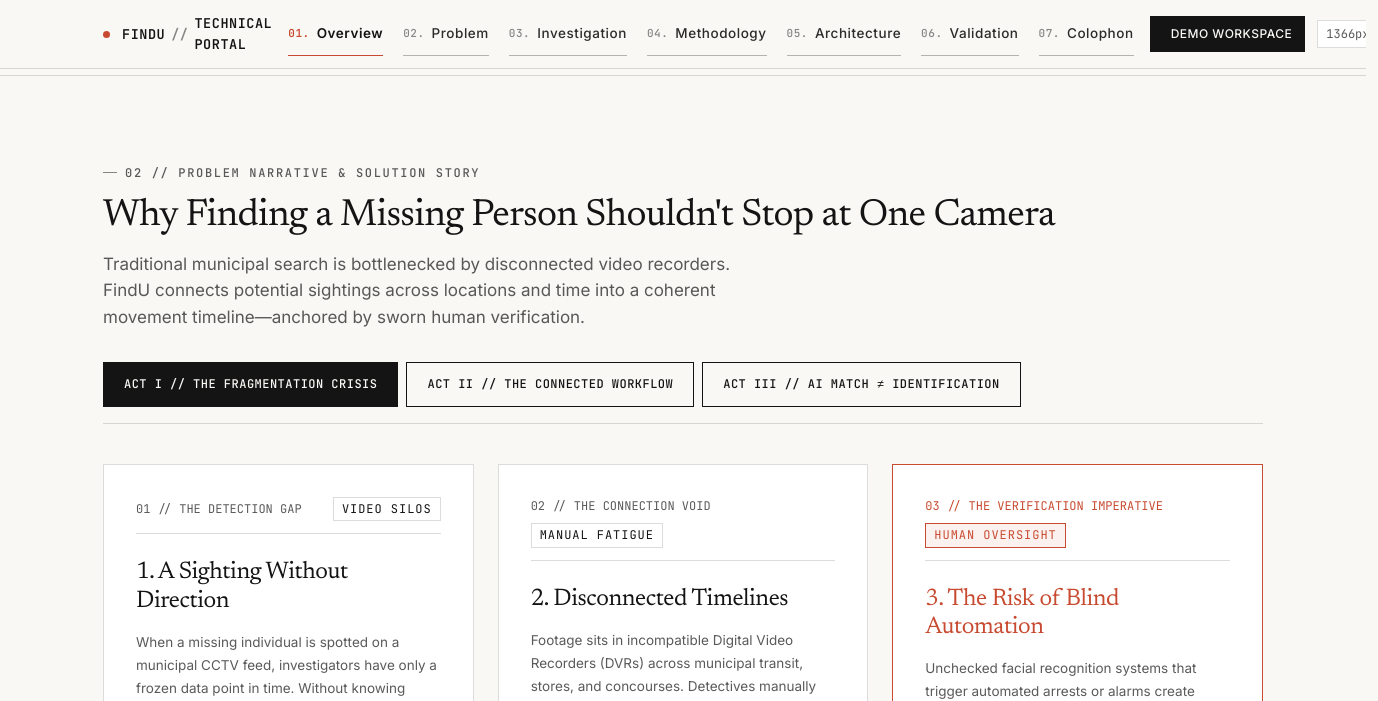
Phase P4: Problem Narrative & Solution Story Verification › verifies transit velocity physical plausibility gate is clearly communicated
(page scrolled)
Click the button "Act II // The Connected Workflow": click(550, 384) x1=406 y1=362 x2=694 y2=407
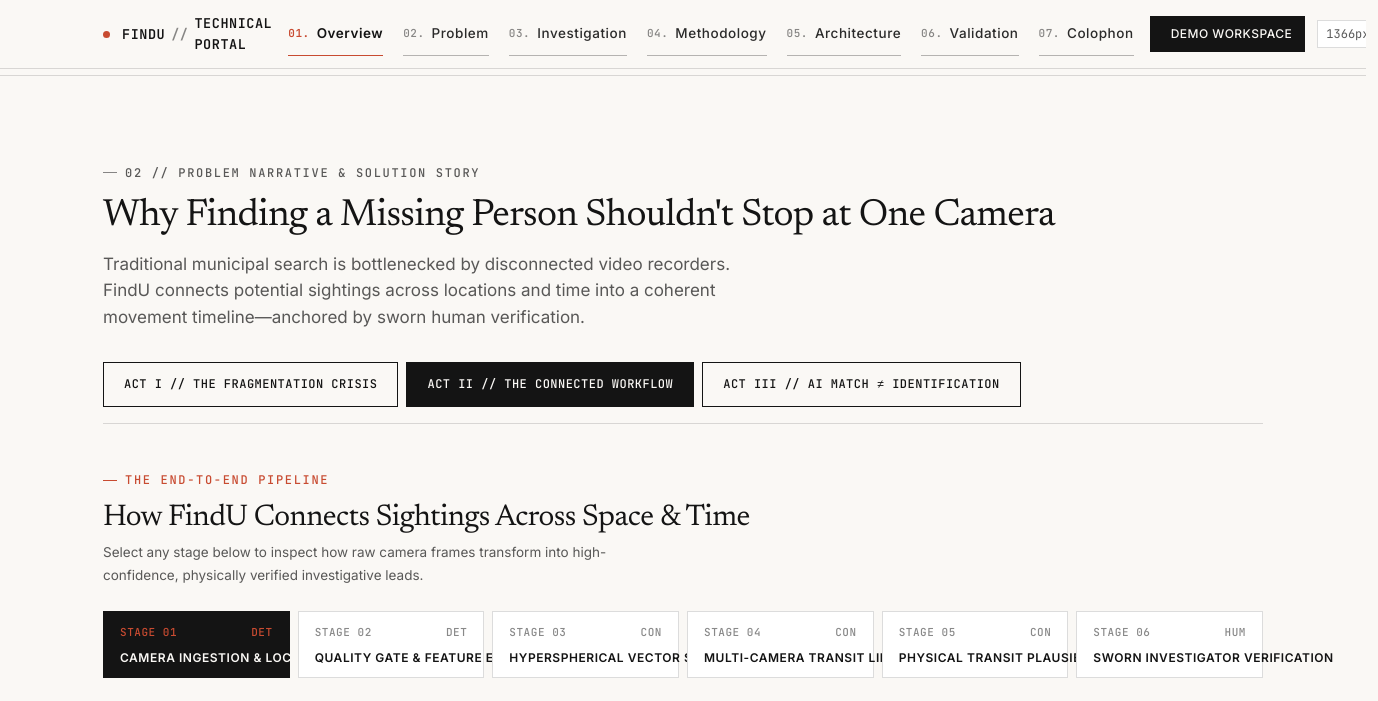
Click the button "STAGE 05 Con Physical Transit Plausibility Gate": click(975, 644) x1=882 y1=611 x2=1068 y2=678
(page scrolled)
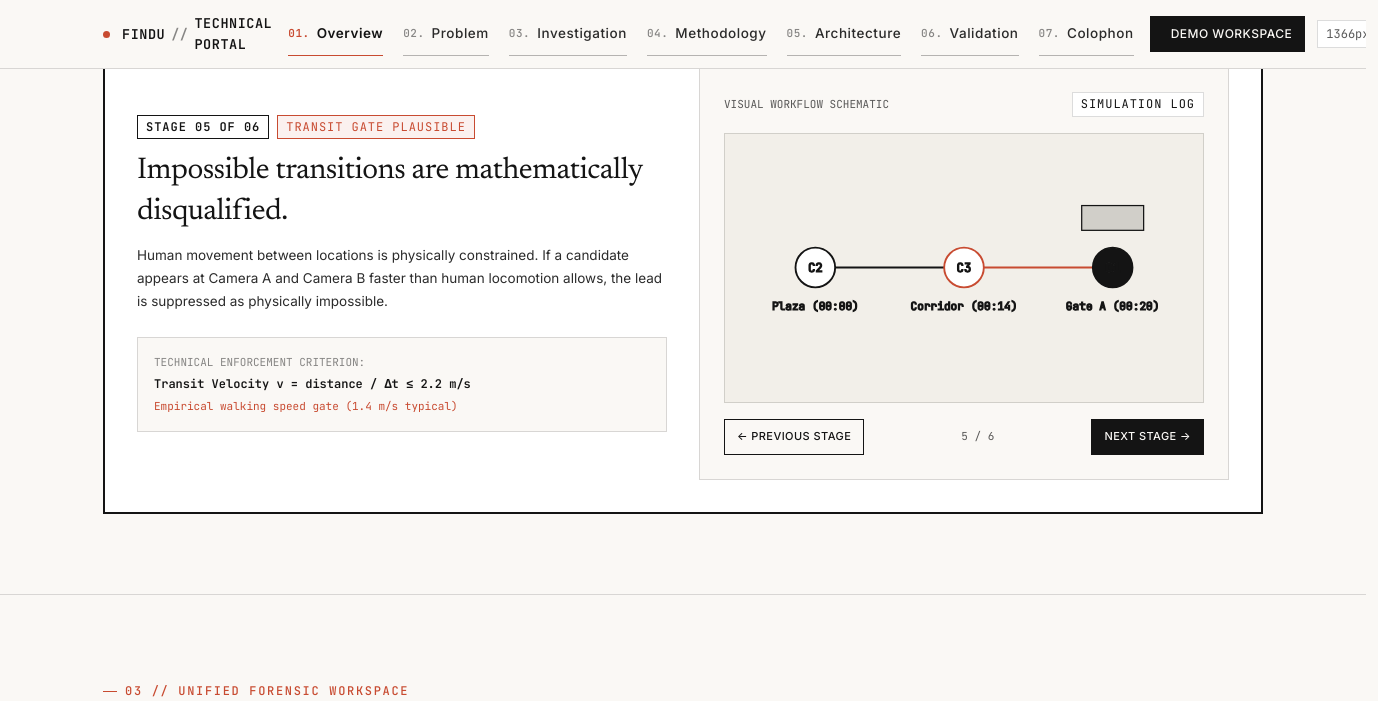
Expected: the text "TRANSIT GATE PLAUSIBLE" is shown, x1=277 y1=115 x2=475 y2=139
Expected: the text "Transit Velocity v = distance / Δt ≤ 2.2 m/s" is shown, x1=154 y1=376 x2=471 y2=392
